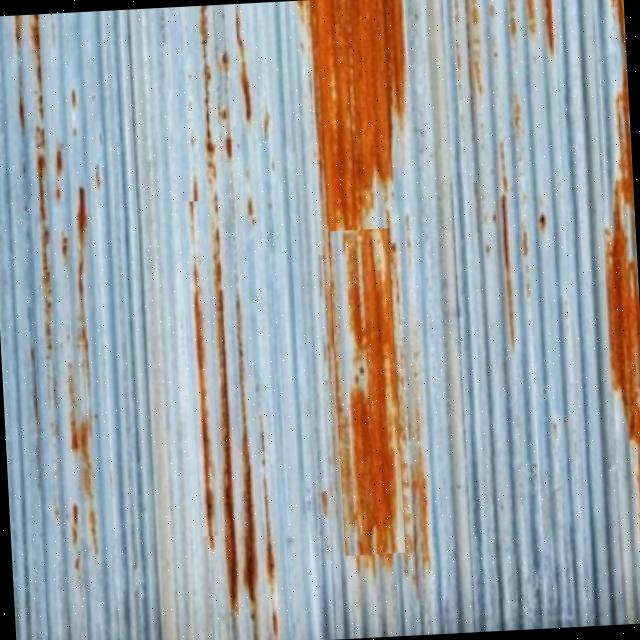Corrosion: (0, 0, 640, 640), (292, 0, 434, 578), (589, 0, 640, 623)
